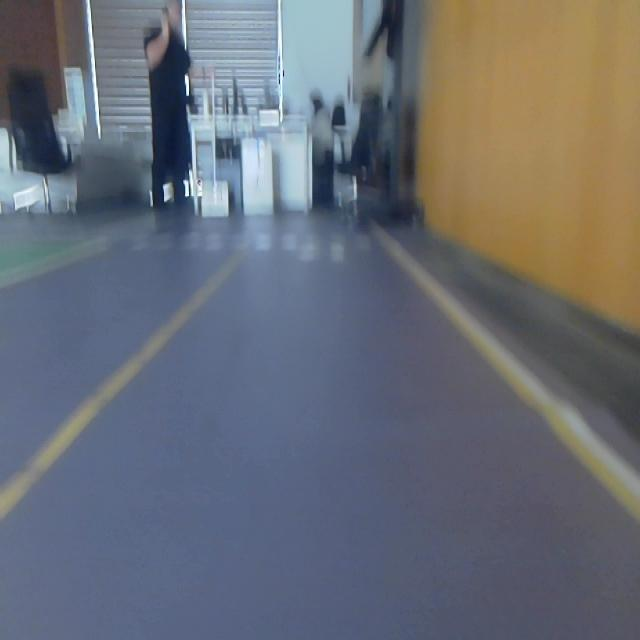left_lane: (0, 250, 240, 518)
right_lane: (378, 240, 640, 524)
